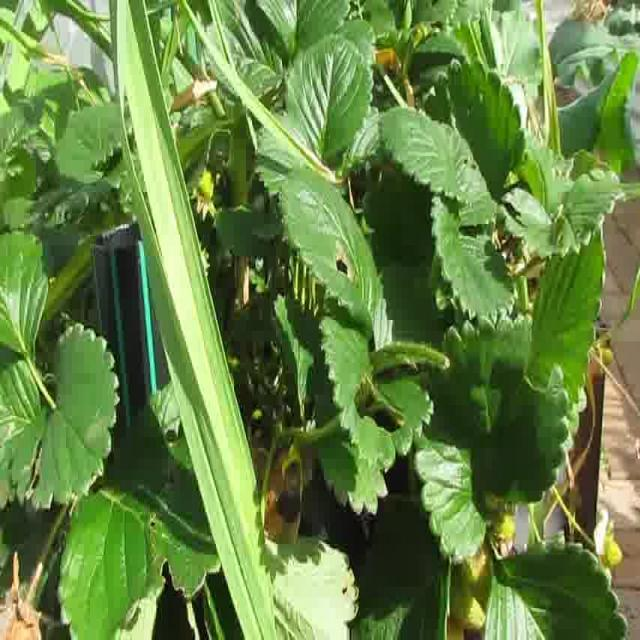Moho gris: (0, 581, 43, 640)
